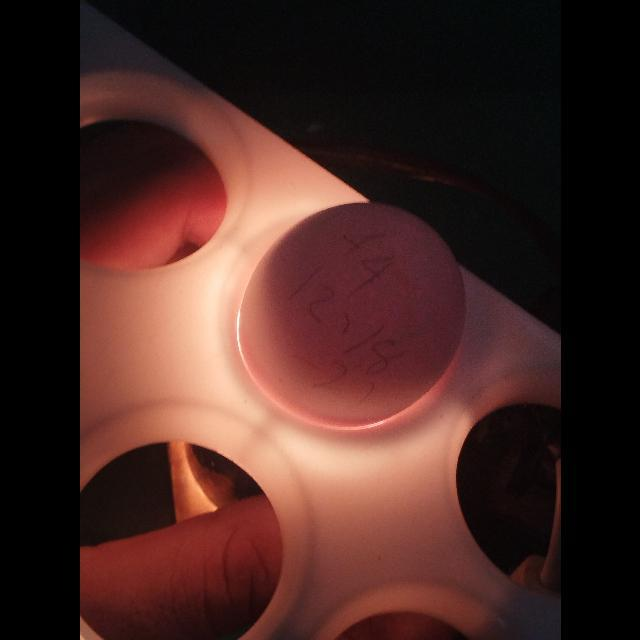Fertile: (236, 202, 462, 426)
